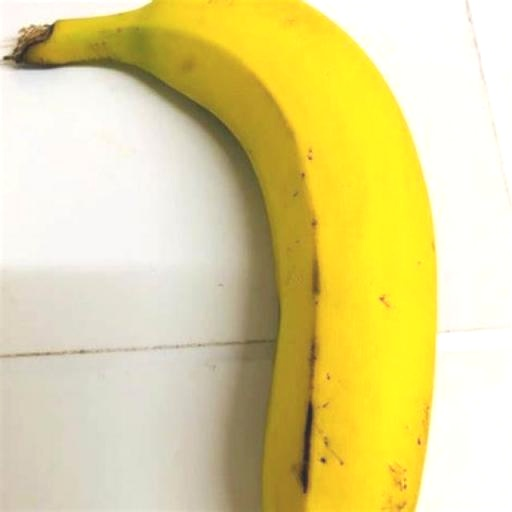fruit: (12, 0, 435, 511)
